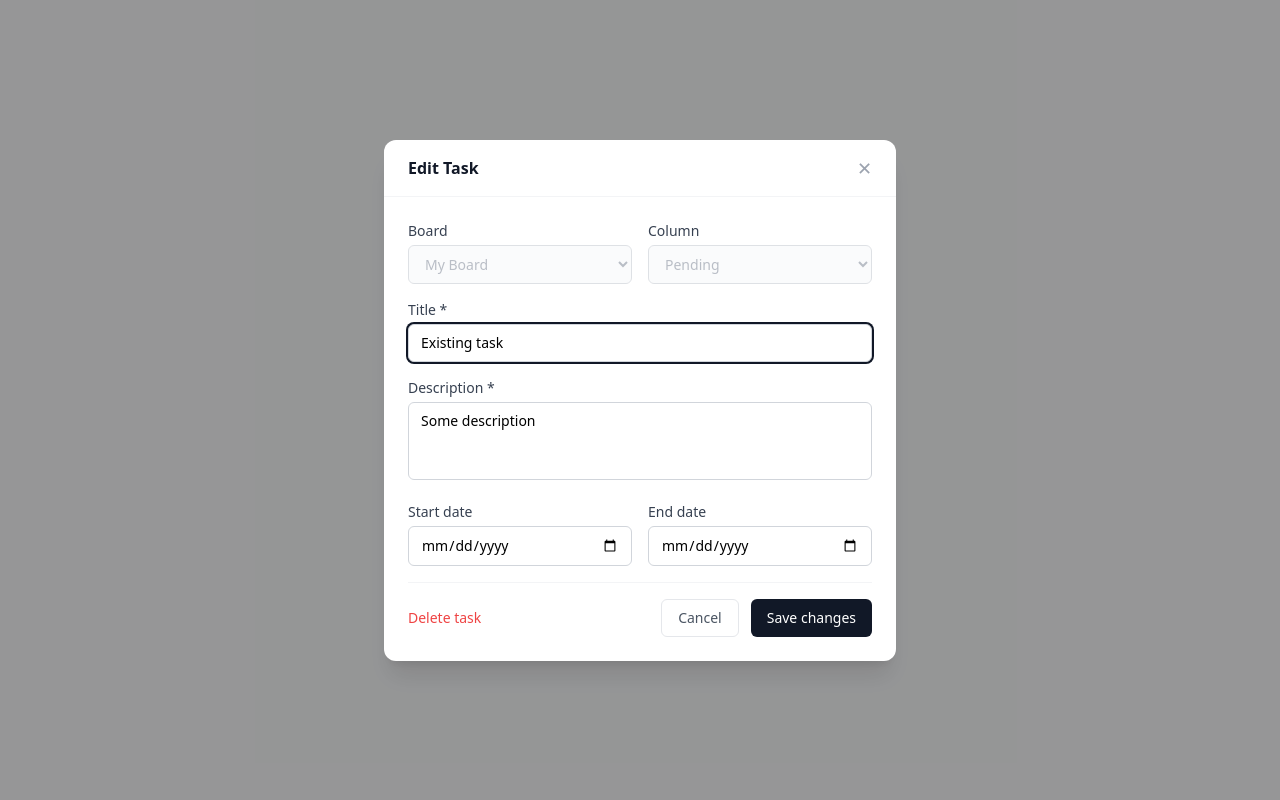
TaskModal — edit mode (US-03 / US-04) › cancelling delete confirm hides the confirm UI
The width and height of the screenshot is (1280, 800).
Click the button "Delete task": {"x": 445, "y": 618} [408,608,481,628]
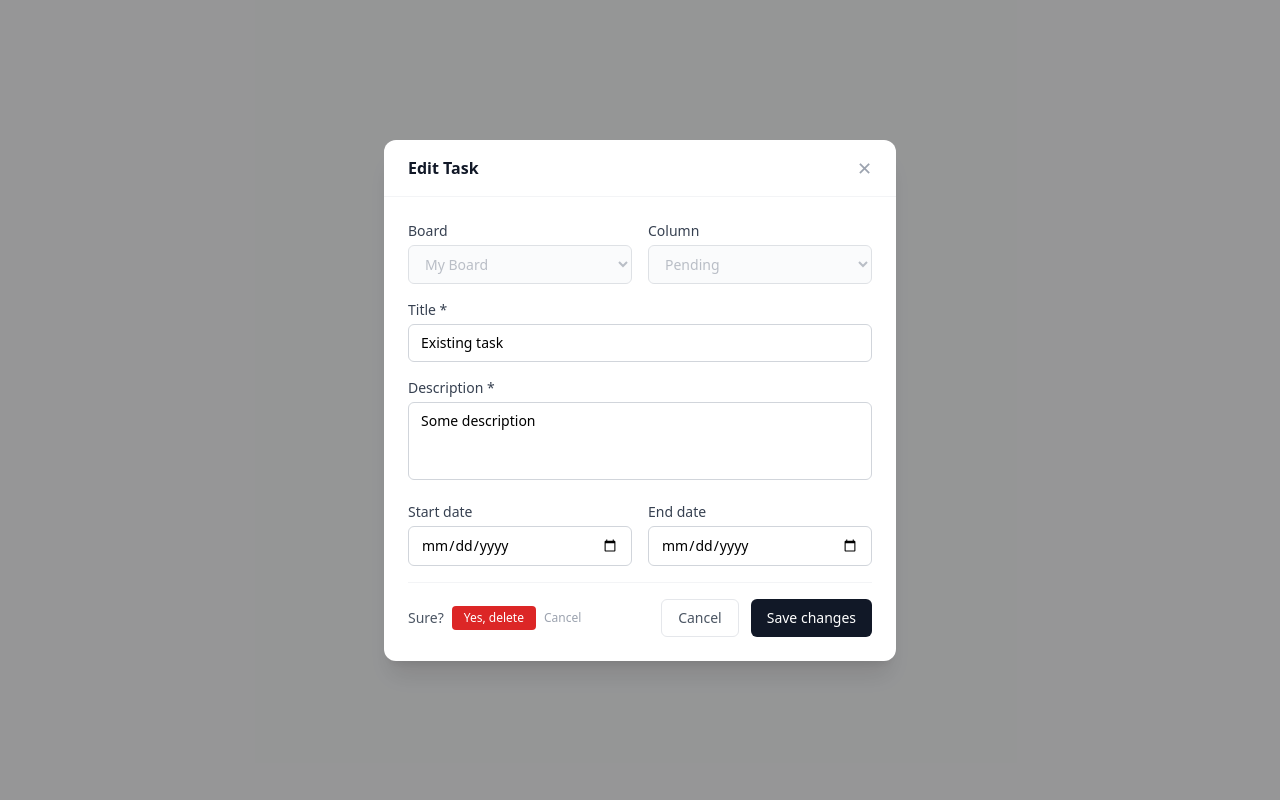
# Two "Cancel" buttons exist: the confirm-cancel (text-xs) and the form-cancel
Click the button "Cancel" in the row of "Sure?": {"x": 563, "y": 618} [544,610,581,626]
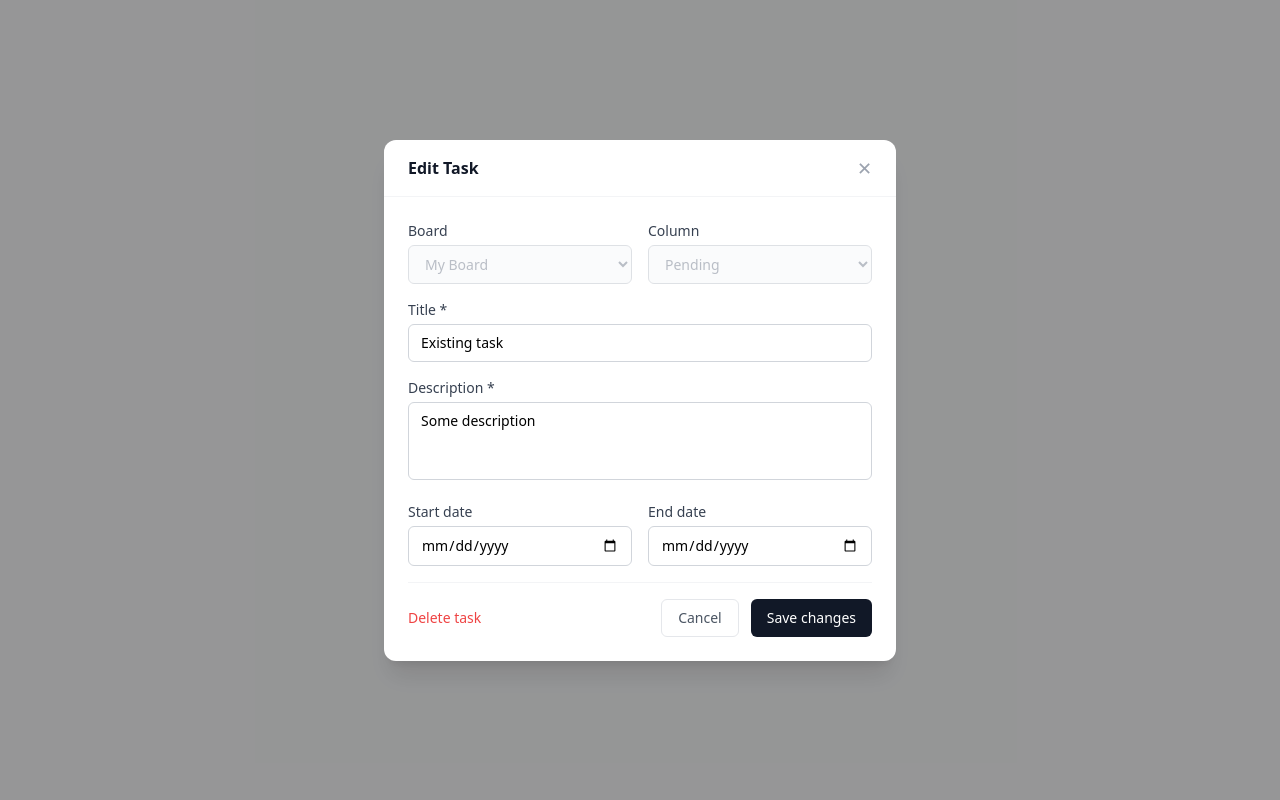
Result: the text "Sure?" is gone
